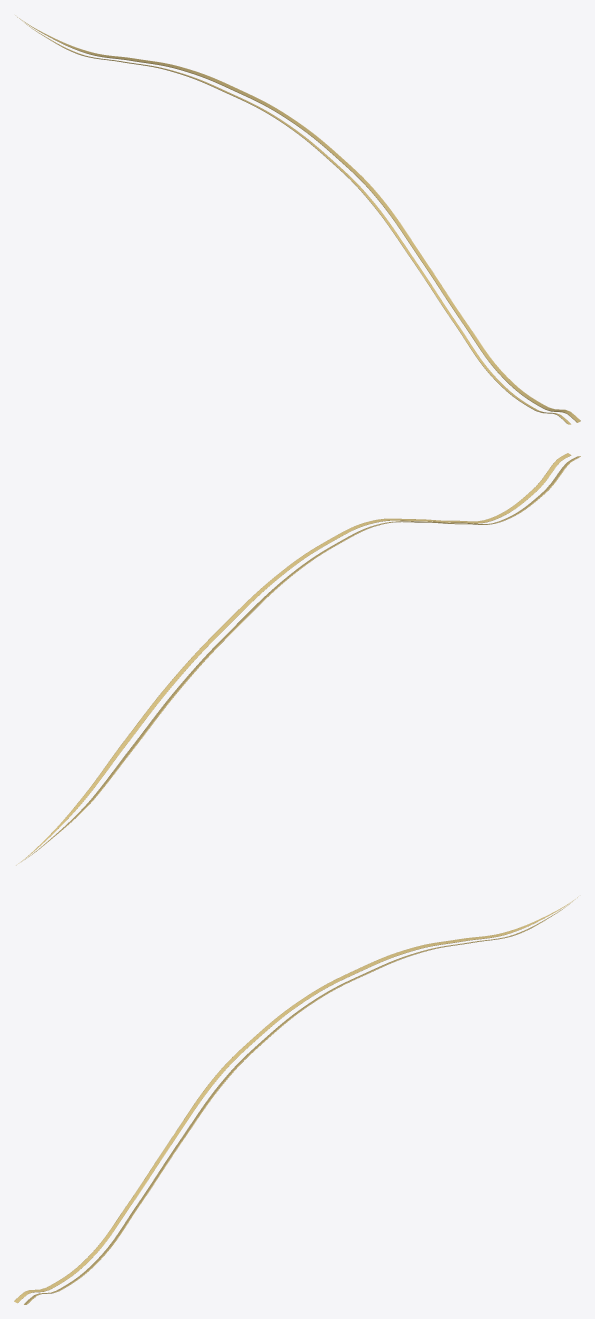
3 renders of one model, top to bottom at view 1: azimuth 30°, elevation 25°; view 2: azimuth 150°, elevation 25°; view 3: azimuth 330°, elevation 25°, orthographic.
Parts seen in each view (by area): view 1: 前庭脊髓侧束; view 2: 前庭脊髓侧束; view 3: 前庭脊髓侧束.
Boxes of the visible parts, bbox=[...] form: 前庭脊髓侧束: bbox=[15, 15, 580, 424]; 前庭脊髓侧束: bbox=[16, 453, 580, 865]; 前庭脊髓侧束: bbox=[14, 896, 578, 1304].
Size of the model in its own units: 0.0099 by 0.0755 by 0.7206.
